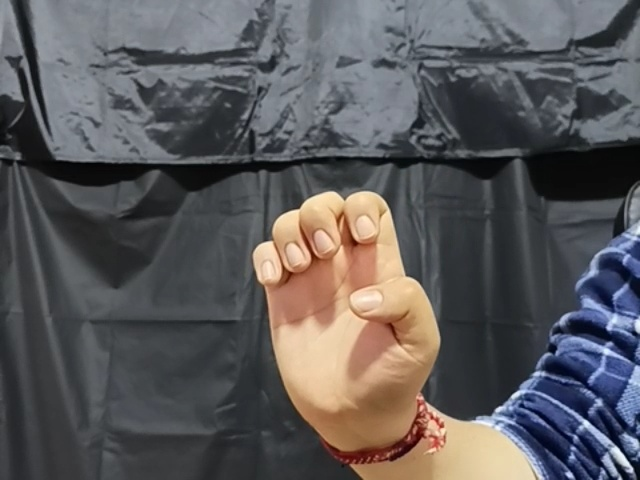E: (247, 187, 444, 433)
